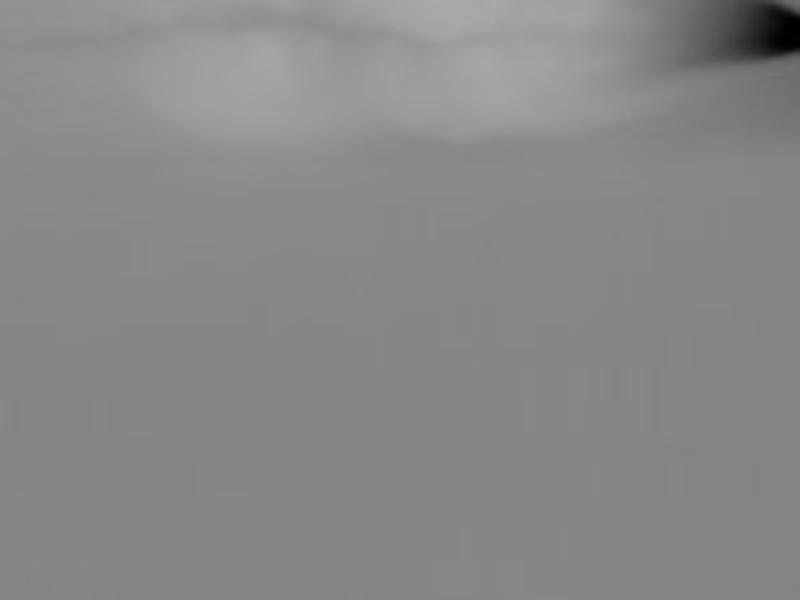defect: (729, 1, 800, 61)
